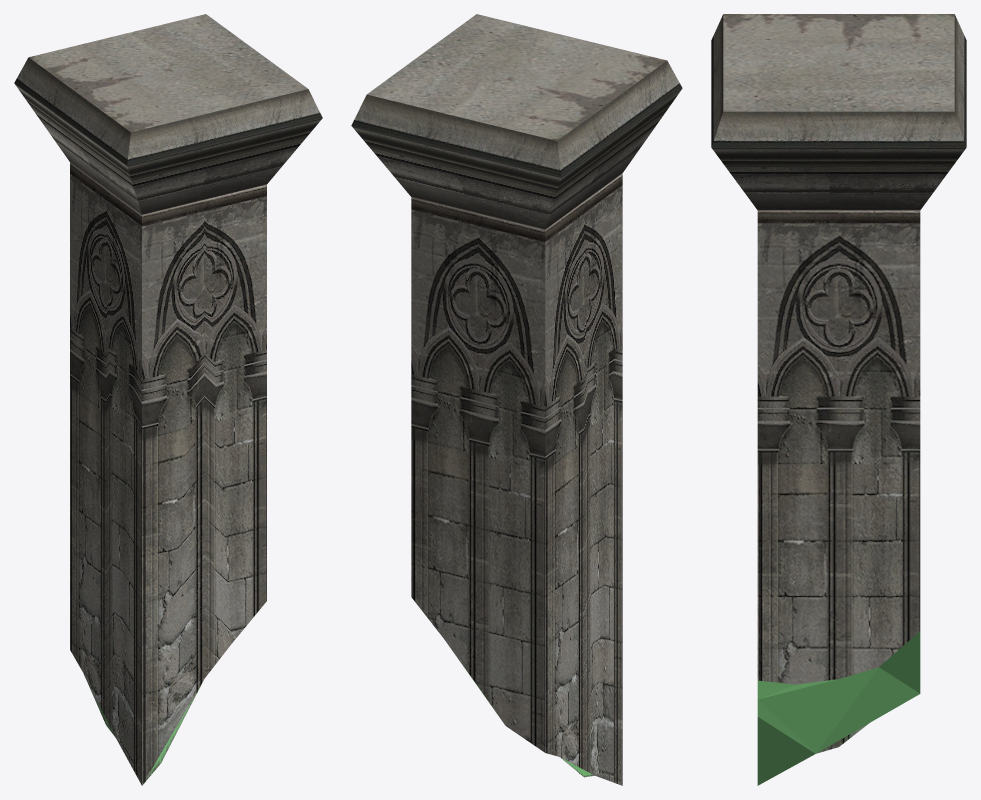
Rendered from Wall.fbx.
3 renders of one model, left to right at view 1: azimuth 30°, elevation 25°; view 2: azimuth 150°, elevation 25°; view 3: azimuth 270°, elevation 25°, orthographic. The views are drawn at different scales.
Parts seen in each view (by area): view 1: M4_Nigraturis_Column03_SM_SCY; view 2: M4_Nigraturis_Column03_SM_SCY; view 3: M4_Nigraturis_Column03_SM_SCY.
Boxes of the visible parts, <box> form: M4_Nigraturis_Column03_SM_SCY: <box>14,14,322,785</box>; M4_Nigraturis_Column03_SM_SCY: <box>351,14,682,785</box>; M4_Nigraturis_Column03_SM_SCY: <box>711,14,966,785</box>.
Bounding box in the file's own units: 0.4158 × 1.36 × 0.4158.
Materials: 3 (2 with a texture image).
